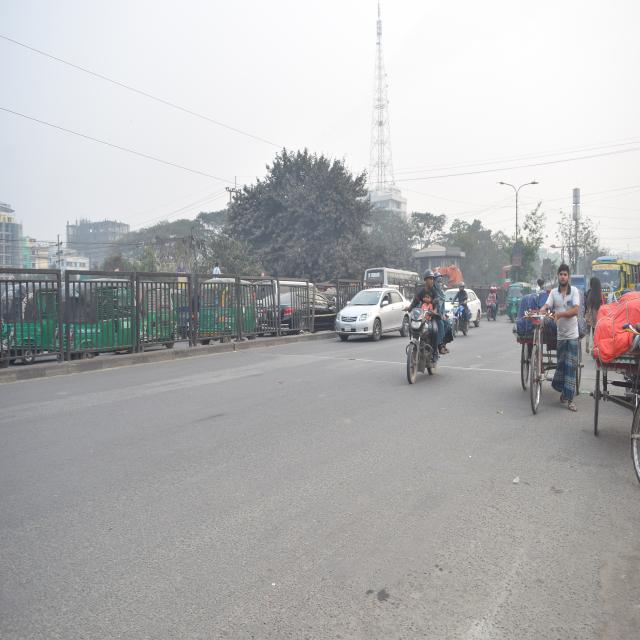bus: (590, 256, 640, 309)
car: (335, 283, 412, 352), (266, 277, 340, 336)
motorbike: (400, 257, 458, 380), (445, 275, 475, 330), (483, 270, 508, 327)
